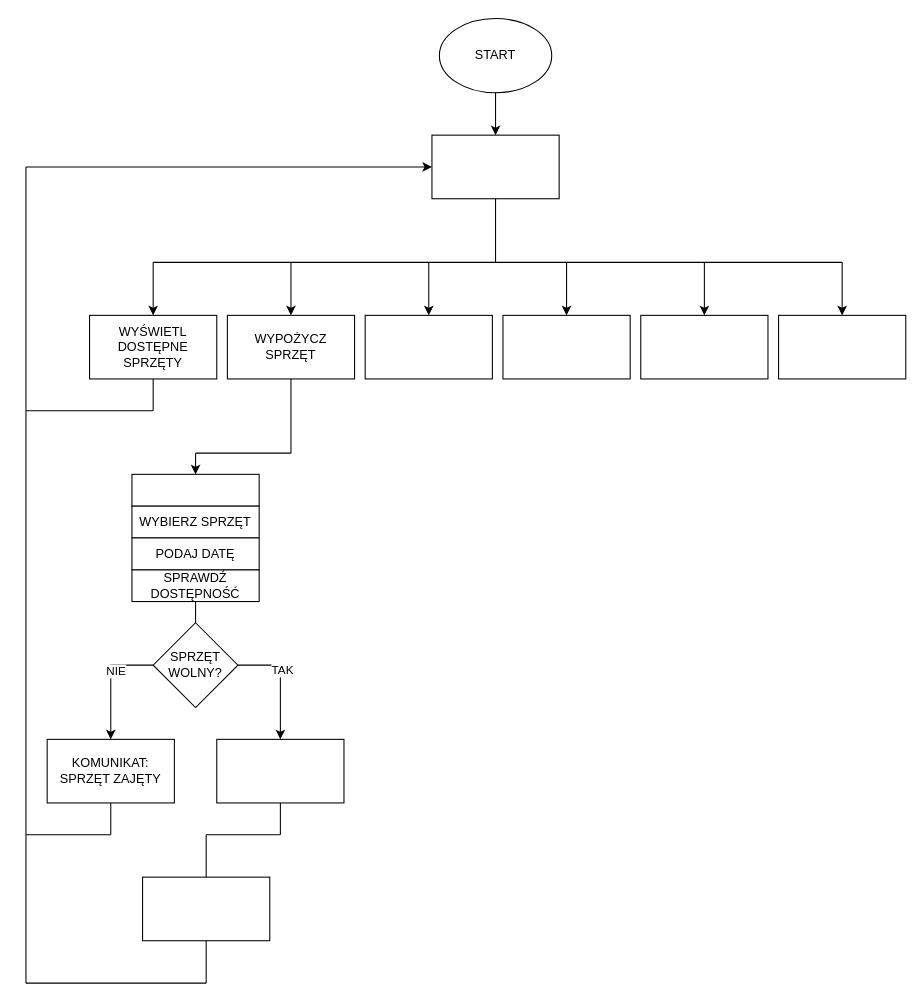
Some shapes in this 924 by 1003 pixel diagram are drawn without their labels. The centre of each missing label's shape, as x and y in pixels:
MENU GŁÓWNE: the point at 495,166
PODAJ DANE KLIENTA: the point at 195,489
UTWÓRZ REZERWACJĘ: the point at 280,770
ZAKOŃCZENIE WYPOŻYCZENIA: the point at 206,908
